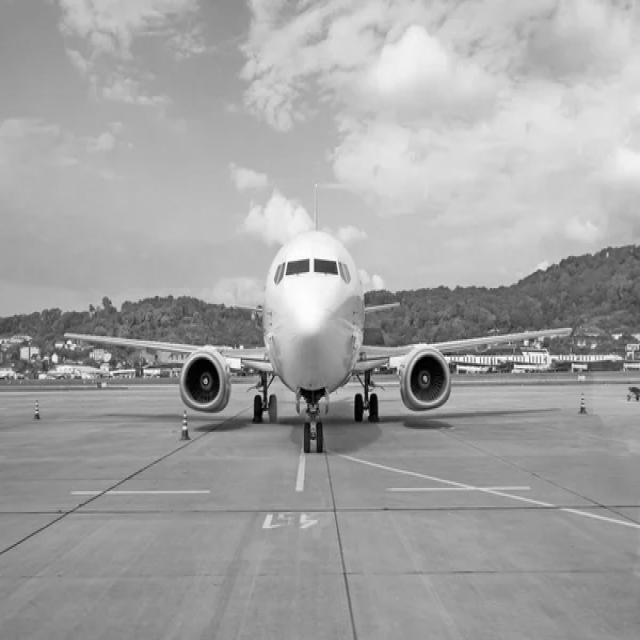Aircraft: (64, 222, 577, 439)
